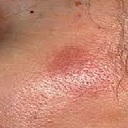Actinic: (48, 47, 113, 95)
